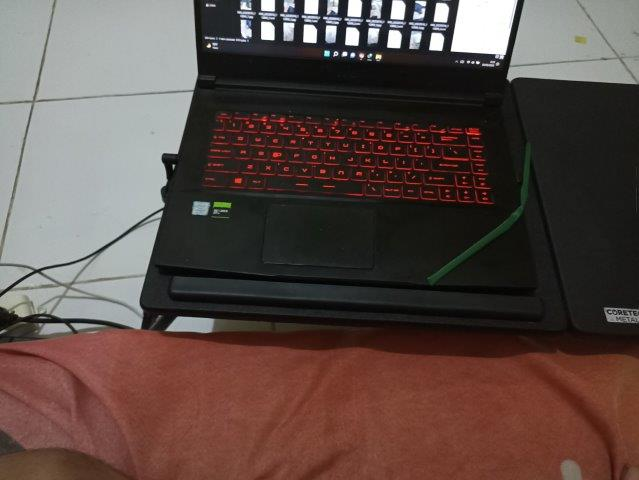sedotan: (429, 143, 533, 284)
